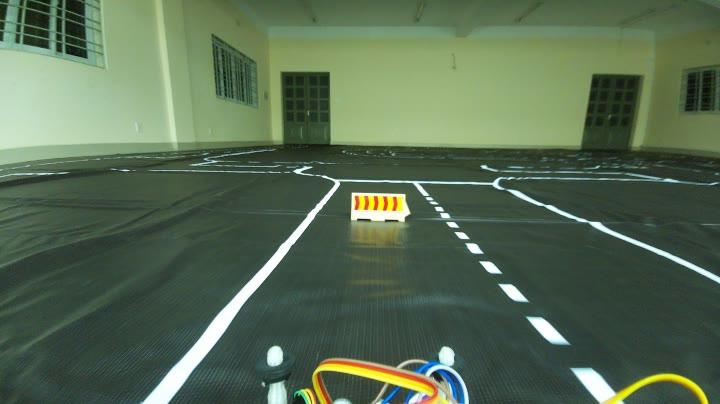roadblock: (349, 187, 416, 230)
